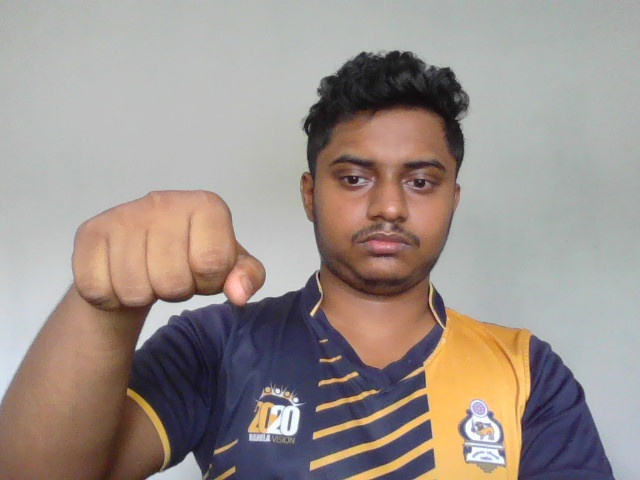Yes: (66, 184, 269, 308)
